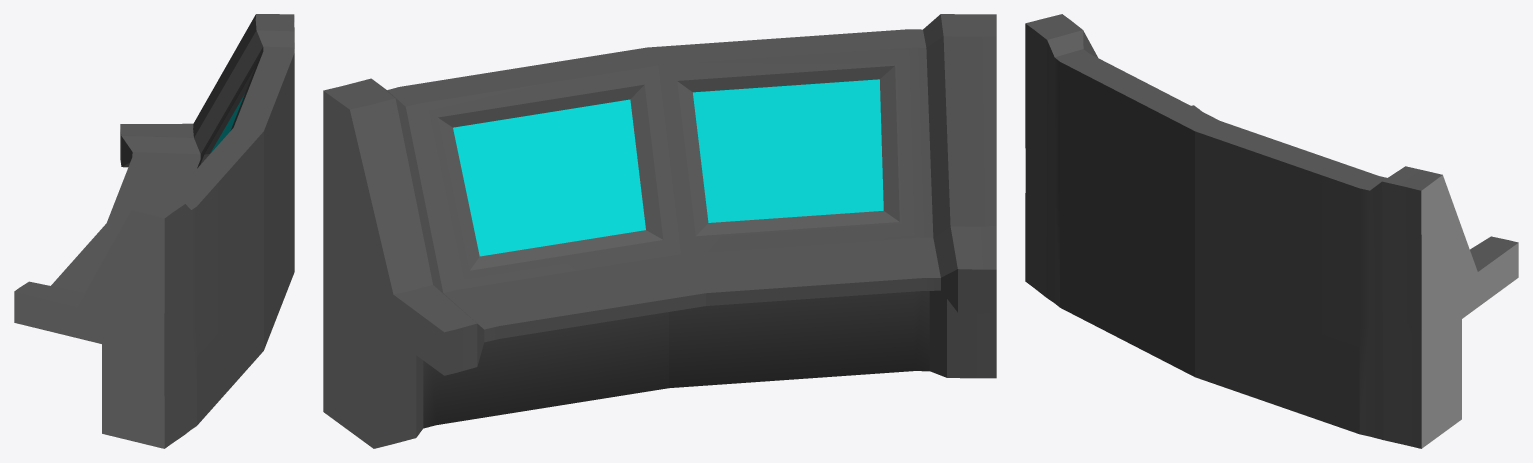
File: CommandDesk.fbx
3 renders of one model, left to right at view 1: azimuth 30°, elevation 25°; view 2: azimuth 150°, elevation 25°; view 3: azimuth 270°, elevation 25°, orthographic. The views are drawn at different scales.
Parts seen in each view (by area): view 1: CommandDesks; view 2: CommandDesks; view 3: CommandDesks.
Boxes of the visible parts, x1=… form: CommandDesks: x1=14, y1=14, x2=294, y2=448; CommandDesks: x1=323, y1=14, x2=996, y2=448; CommandDesks: x1=1025, y1=14, x2=1518, y2=448.
Bounding box in the file's own units: 10.91 × 6.31 × 10.91.
